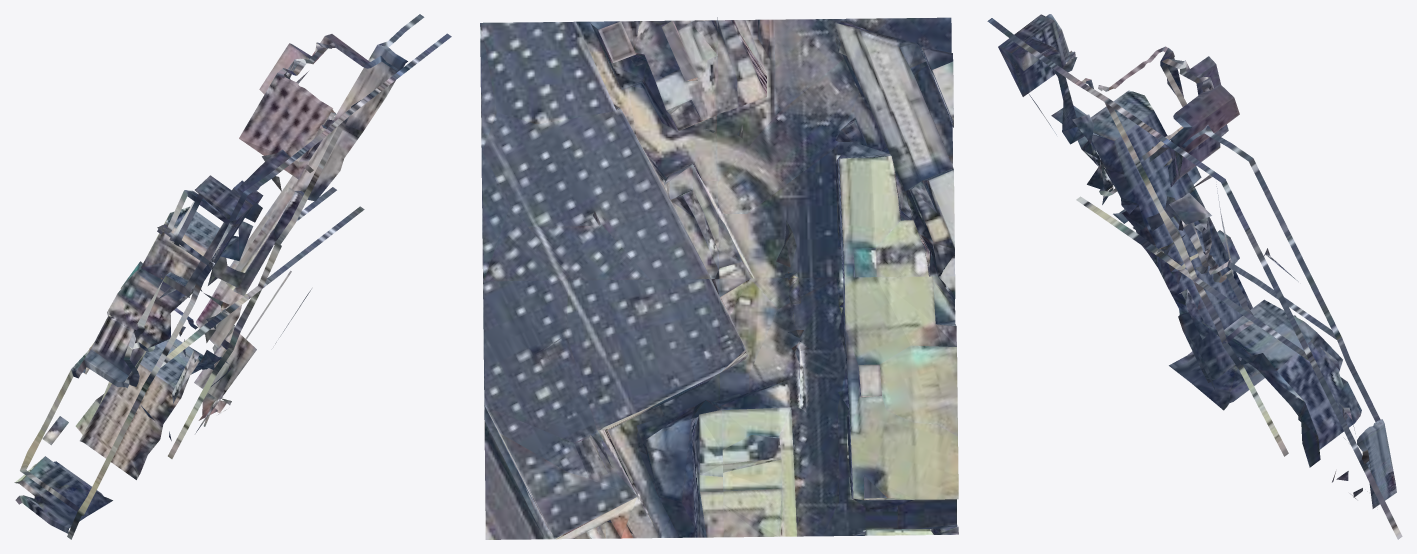
3 views of the same model, side by side, from view 1: azimuth 30°, elevation 25°; view 2: azimuth 150°, elevation 25°; view 3: azimuth 270°, elevation 25° (orthographic). The views are drawn at different scales.
Bounding box in the file's own units: 163 × 152 × 129.
Materials: 2 (2 with a texture image).
